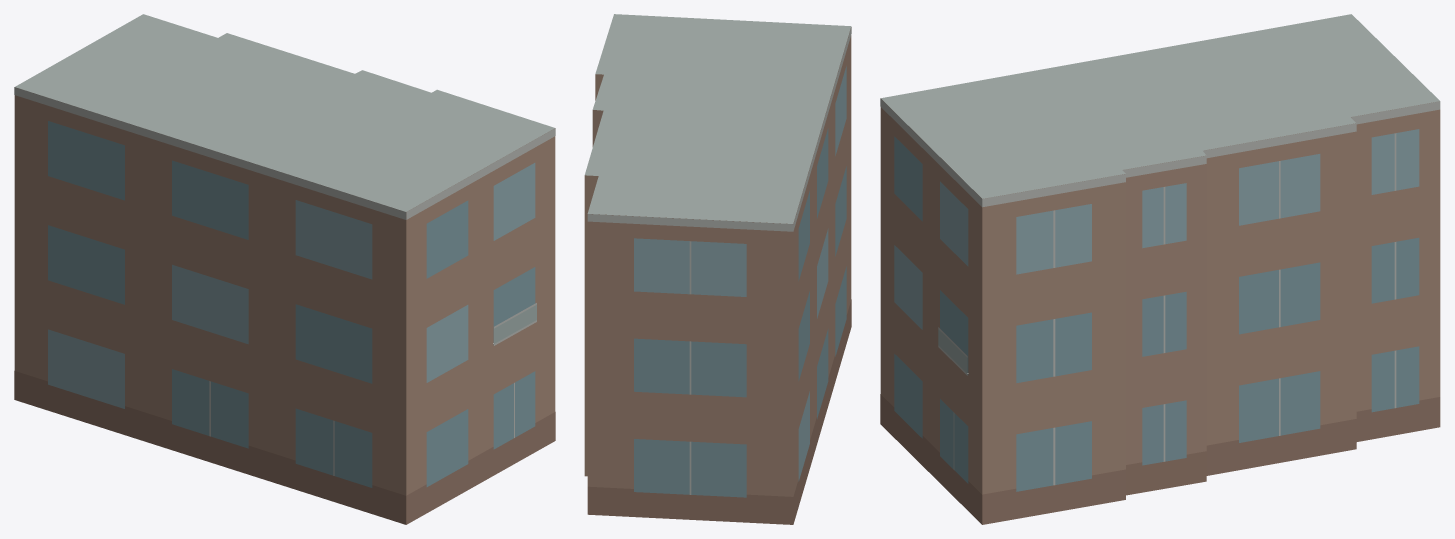
File: survey-upis-32494494.glb
3 renders of one model, left to right at view 1: azimuth 30°, elevation 25°; view 2: azimuth 150°, elevation 25°; view 3: azimuth 270°, elevation 25°, orthographic. The views are drawn at different scales.
Parts seen in each view (by area): view 1: survey-upis-32494494.tmp; view 2: survey-upis-32494494.tmp; view 3: survey-upis-32494494.tmp.
Part boxes in pixels (x1,y1,x2,y2): survey-upis-32494494.tmp: [14, 14, 555, 524]; survey-upis-32494494.tmp: [584, 14, 851, 524]; survey-upis-32494494.tmp: [880, 14, 1440, 524].
Bounding box in the file's own units: 11.56 × 9.5 × 14.79.
